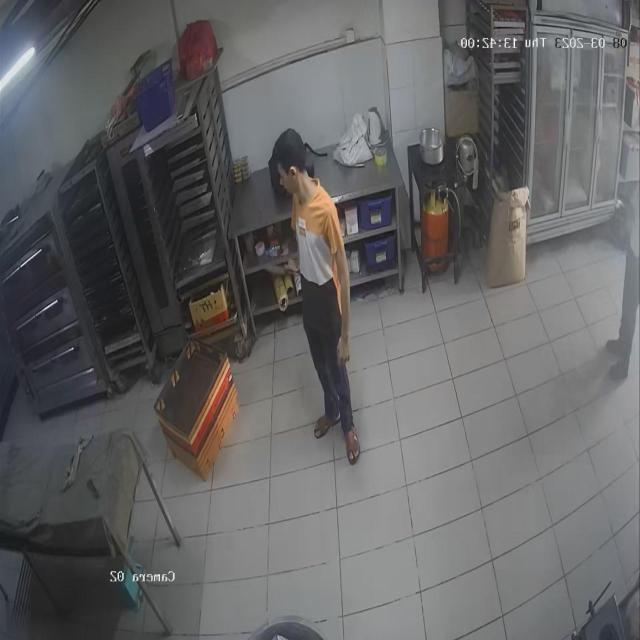Knife: (257, 253, 304, 285)
